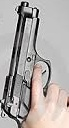pistol: (2, 1, 67, 128)
